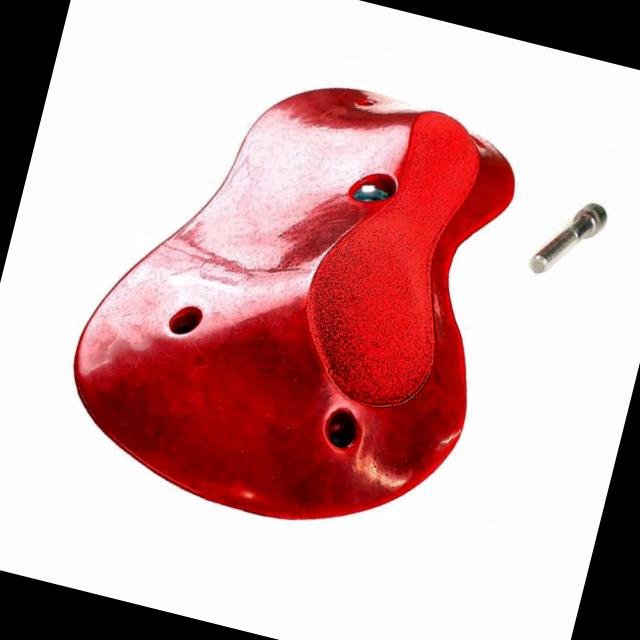Hold: (48, 36, 536, 560)
